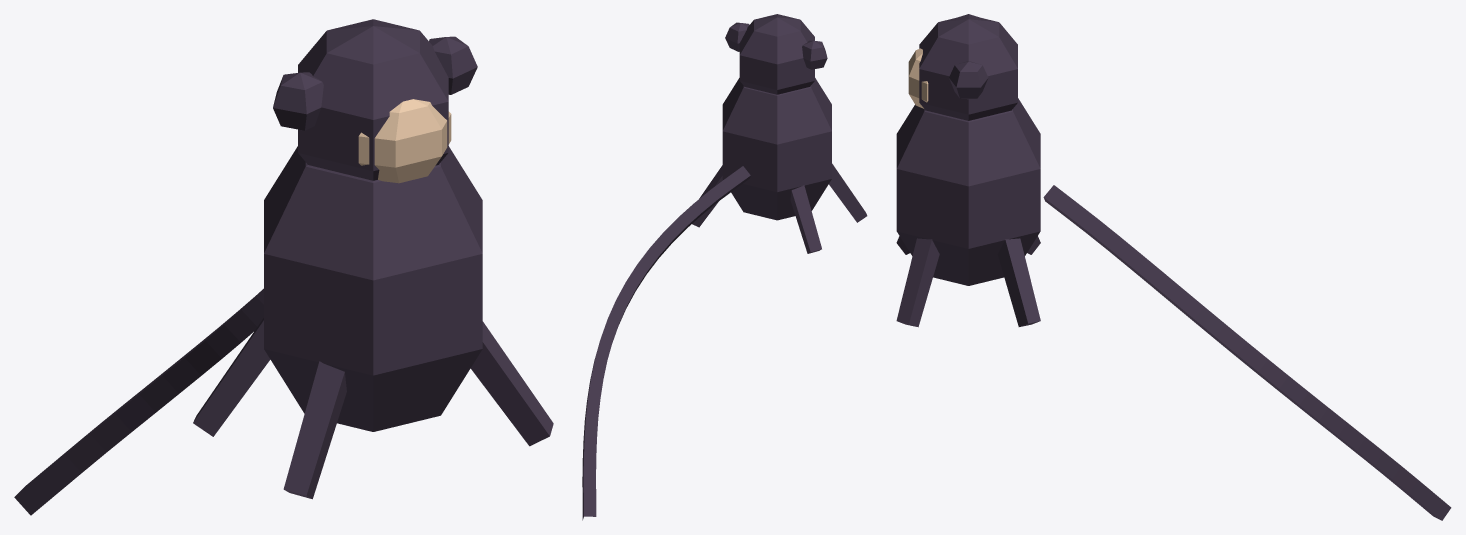
File: swamp_monkey.glb
3 views of the same model, side by side, from view 1: azimuth 30°, elevation 25°; view 2: azimuth 150°, elevation 25°; view 3: azimuth 270°, elevation 25° (orthographic). The views are drawn at different scales.
Visible parts, largest first — view 1: n1, n3, n19, n5, n15, n17, n11, n7, n9; view 2: n1, n19, n3, n11, n15, n7, n9, n13; view 3: n1, n19, n3, n17, n13, n9, n5.
Boxes of the visible parts, x1,y1,x2,y2 form: n1: (264, 146, 482, 431); n3: (298, 19, 448, 180); n19: (14, 288, 263, 515); n5: (358, 99, 451, 183); n15: (283, 361, 346, 499); n17: (470, 321, 553, 446); n11: (193, 318, 270, 436); n7: (273, 72, 323, 130); n9: (429, 36, 477, 94); n1: (722, 78, 831, 220); n19: (582, 166, 750, 520); n3: (739, 14, 814, 94); n11: (790, 185, 821, 253); n15: (829, 163, 867, 222); n7: (802, 40, 827, 69); n9: (725, 22, 749, 51); n13: (692, 165, 722, 227); n1: (896, 98, 1040, 285); n19: (1043, 185, 1451, 520); n3: (919, 14, 1017, 120); n17: (896, 238, 939, 327); n13: (997, 238, 1040, 326); n9: (949, 61, 988, 99); n5: (908, 48, 928, 108).
Bounding box in the file's own units: 0.8875 × 2.36 × 2.4.
